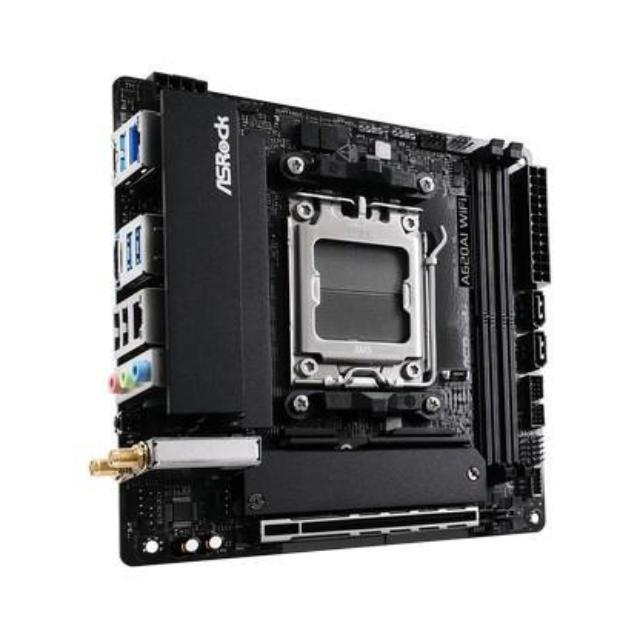Mainboard: (104, 65, 562, 557)
